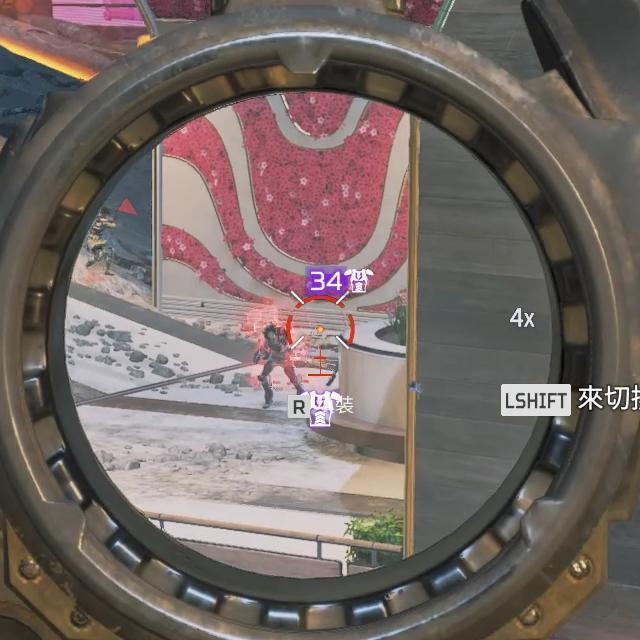avatar: (258, 323, 304, 410)
